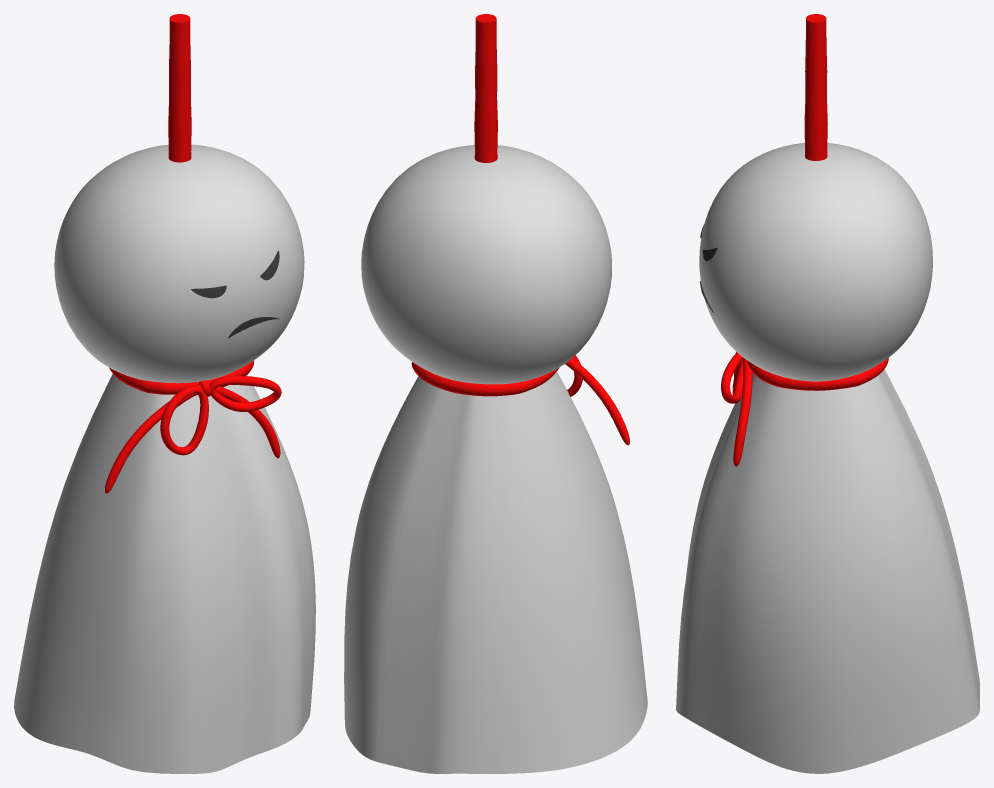
3 views of the same model, side by side, from view 1: azimuth 30°, elevation 25°; view 2: azimuth 150°, elevation 25°; view 3: azimuth 270°, elevation 25° (orthographic).
Parts seen in each view (by area): view 1: 004_teruterubouzu2; view 2: 004_teruterubouzu2; view 3: 004_teruterubouzu2.
Part boxes in pixels (bbox=[...]): 004_teruterubouzu2: bbox=[14, 14, 315, 773]; 004_teruterubouzu2: bbox=[344, 14, 647, 773]; 004_teruterubouzu2: bbox=[676, 14, 979, 773].
Size of the model in its own units: 0.0865 by 0.2218 by 0.0873.
